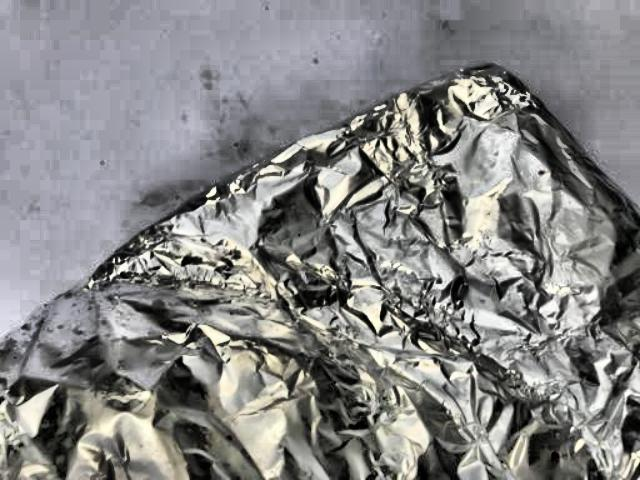Almennt: (0, 63, 640, 480)
